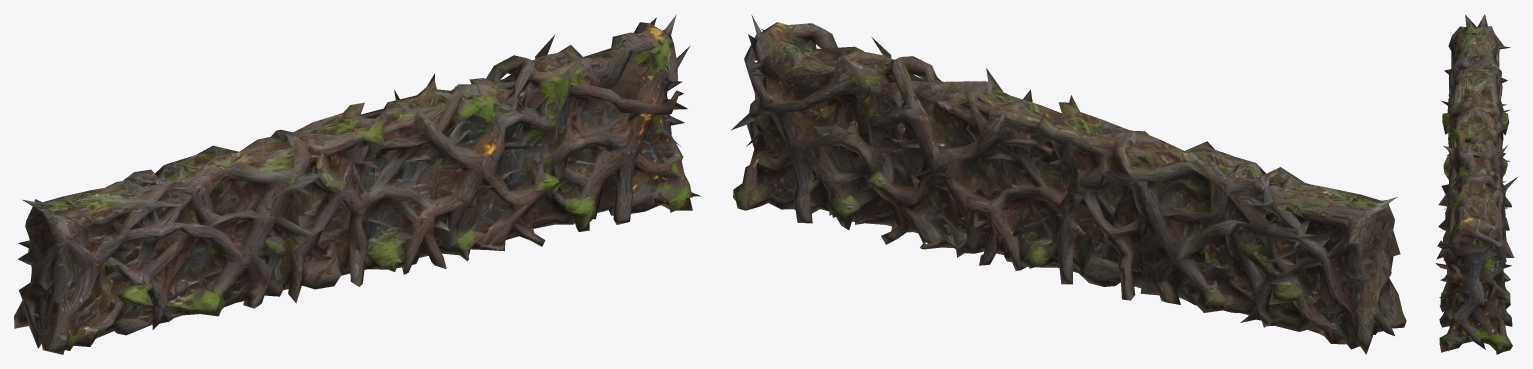
The model's file is root_wall.glb.
3 views of the same model, side by side, from view 1: azimuth 30°, elevation 25°; view 2: azimuth 150°, elevation 25°; view 3: azimuth 270°, elevation 25° (orthographic). The views are drawn at different scales.
Visible parts, largest first — view 1: tripo_node_892f85c5-9dcf-49c4-bd9e-a52e9bc99daf; view 2: tripo_node_892f85c5-9dcf-49c4-bd9e-a52e9bc99daf; view 3: tripo_node_892f85c5-9dcf-49c4-bd9e-a52e9bc99daf.
Part boxes in pixels (x1,y1,x2,y2): tripo_node_892f85c5-9dcf-49c4-bd9e-a52e9bc99daf: [14, 14, 701, 354]; tripo_node_892f85c5-9dcf-49c4-bd9e-a52e9bc99daf: [730, 15, 1406, 354]; tripo_node_892f85c5-9dcf-49c4-bd9e-a52e9bc99daf: [1435, 14, 1518, 354].
Bounding box in the file's own units: 1 × 0.2598 × 0.1501.
1 material, 1 textured.
